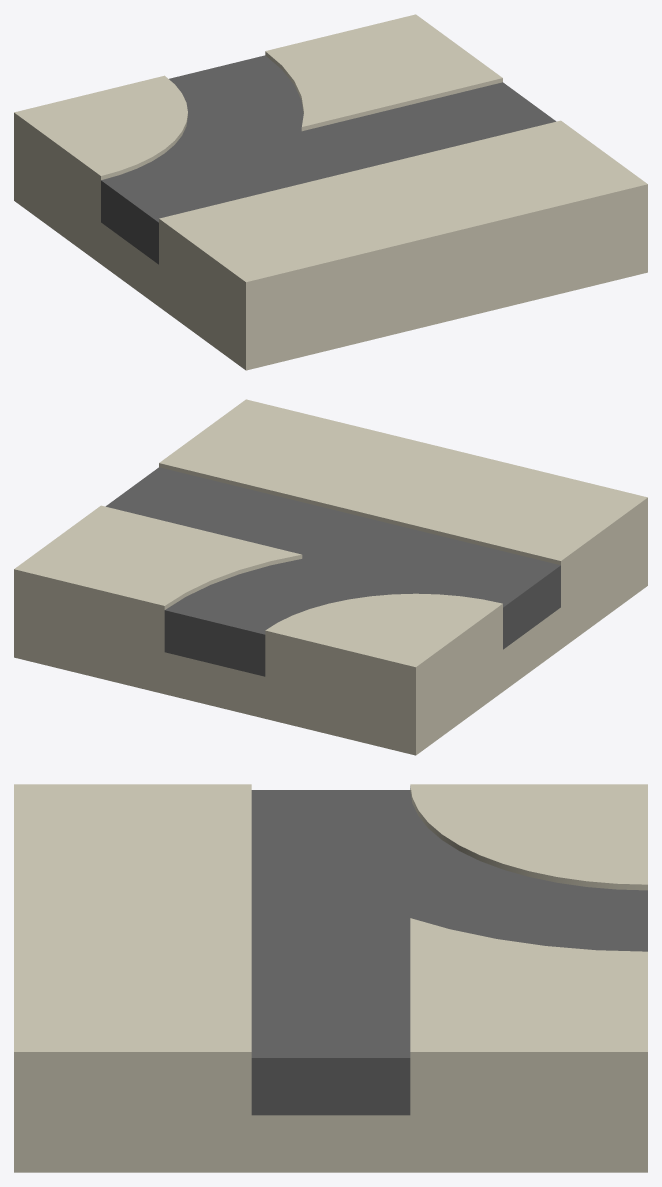
Rendered from tile022.fbx.
The picture shows the model from 3 angles, top to bottom: view 1: azimuth 30°, elevation 25°; view 2: azimuth 150°, elevation 25°; view 3: azimuth 270°, elevation 25°; orthographic projection. The views are drawn at different scales.
Parts seen in each view (by area): view 1: tile022; view 2: tile022; view 3: tile022.
Part boxes in pixels (x1,y1,x2,y2): tile022: (14, 14, 647, 370); tile022: (14, 399, 647, 755); tile022: (14, 784, 647, 1172).
Size of the model in its own units: 10 by 2.1 by 10.
